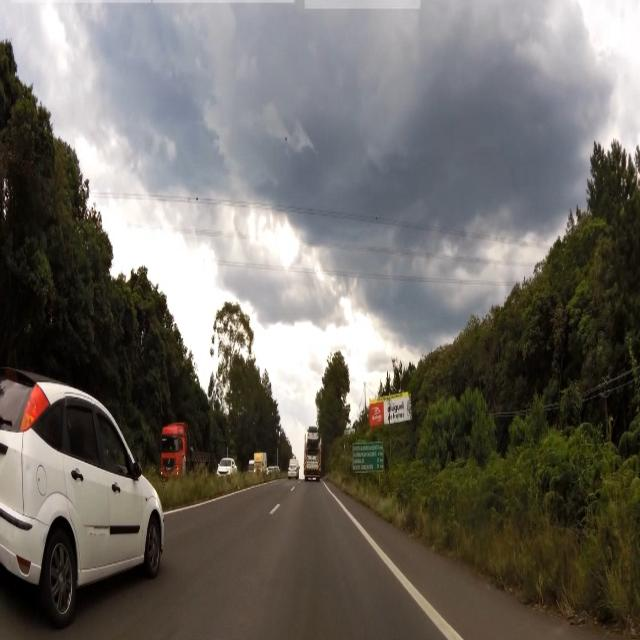LOC-6: (353, 443, 384, 472)
